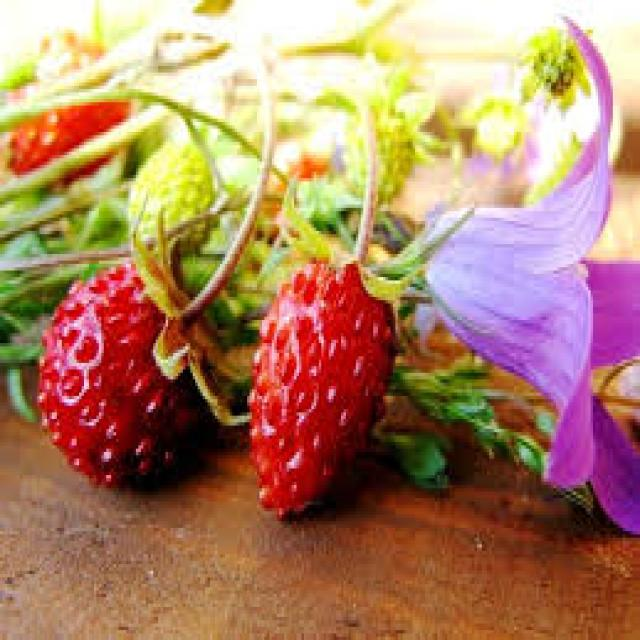strawberry: (38, 247, 213, 494), (251, 252, 395, 520)
